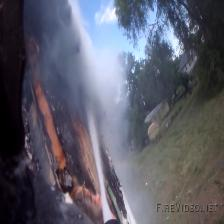smoke: (20, 3, 134, 224)
